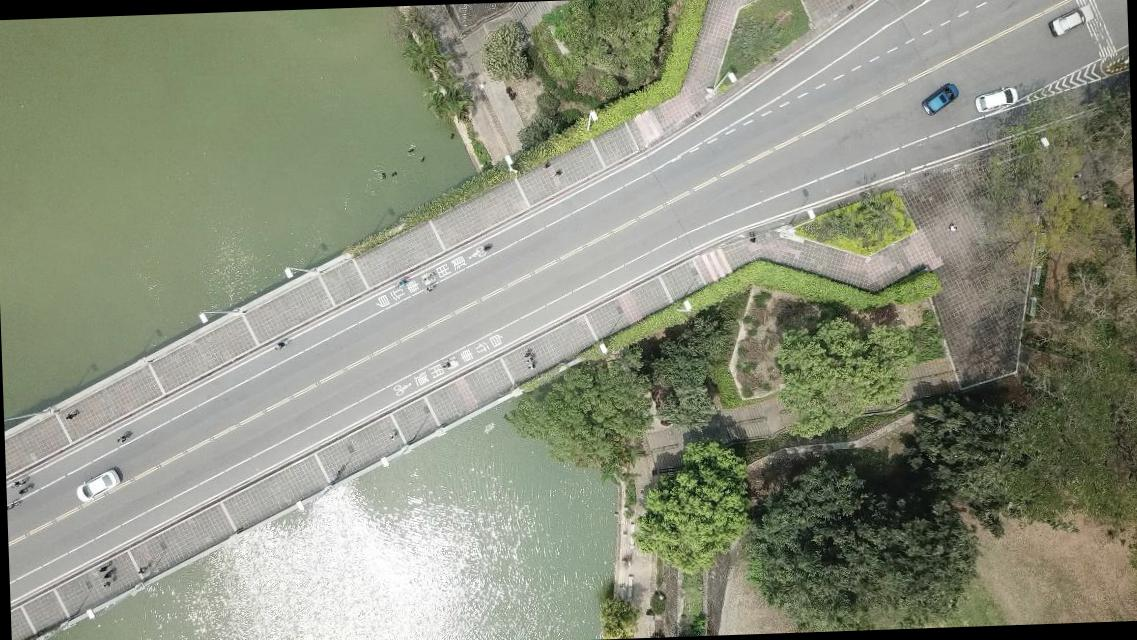vehicle: (73, 466, 120, 502), (1046, 4, 1094, 36), (920, 82, 959, 116), (973, 86, 1018, 112)
